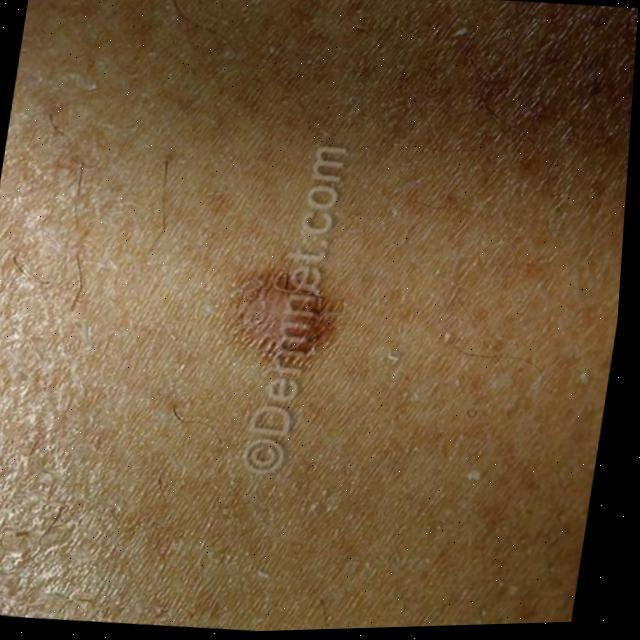Eczema: (219, 265, 357, 376)
